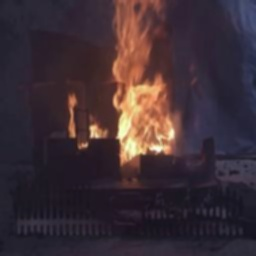fire: (104, 0, 190, 161)
